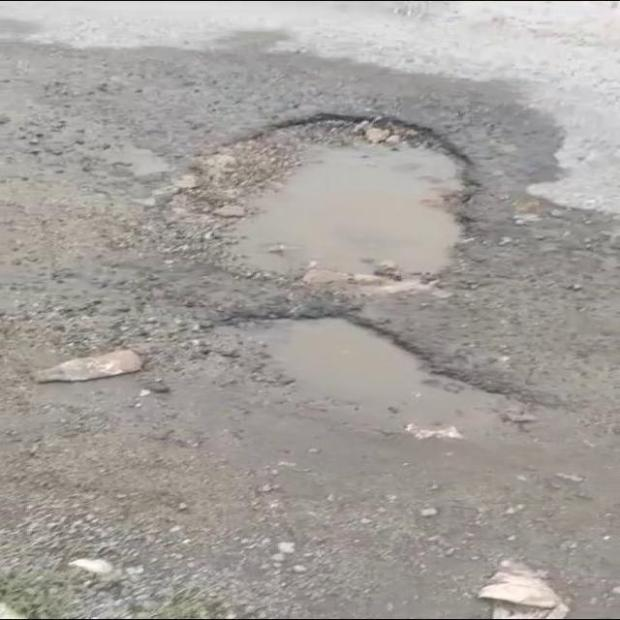lubang: (215, 320, 577, 465), (153, 117, 463, 283)
